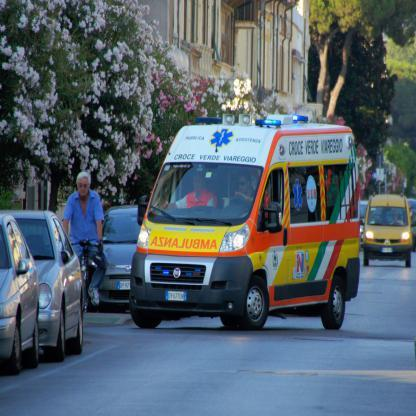Ambulance - v1 Ambulance last generate: (127, 114, 364, 331)
